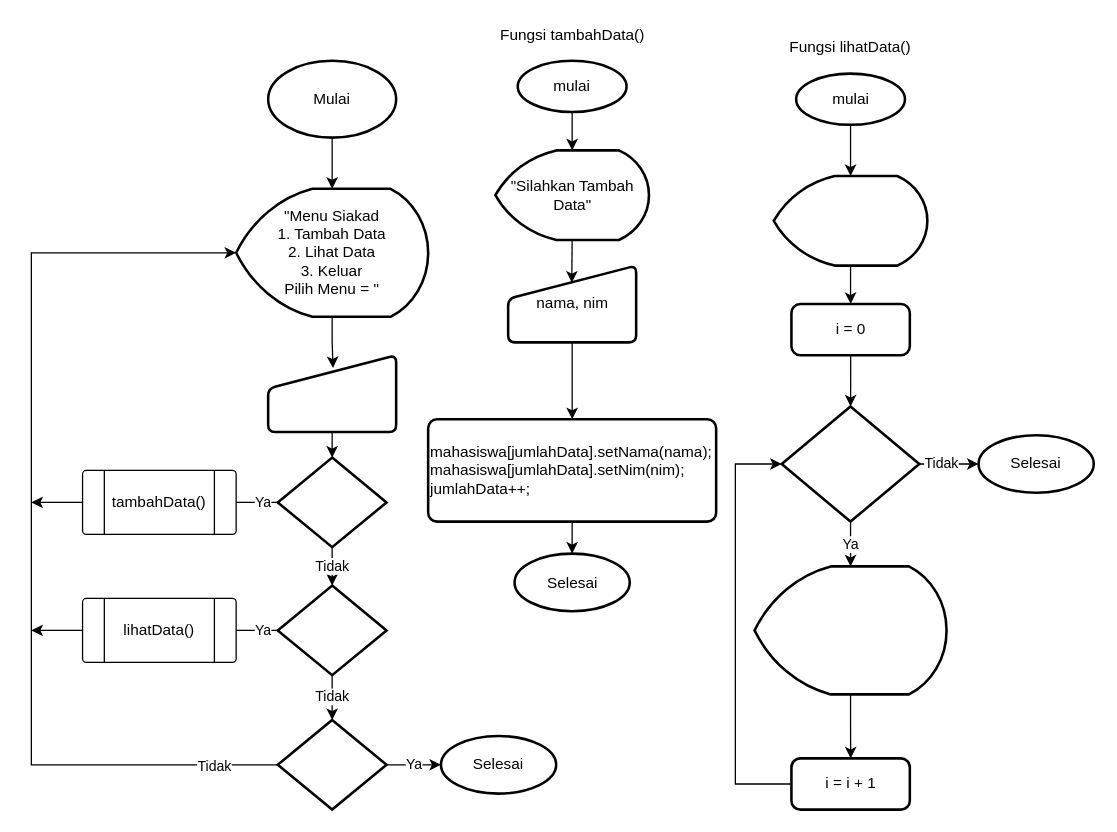
The diagram is 1117 pixels wide and 832 high, and some of its shapes have lost their labels. Each missing label, with the centre of its shape:
"Berikut Data Diri Anda : ": the point at 850,220
i < jumlahData: the point at 850,463
mahasiswa[i].getNama() mahasiswa[i].getNim(): the point at 850,629
menu: the point at 331,393
menu == 1: the point at 331,502
menu == 2: the point at 331,630
menu == 3: the point at 331,764
